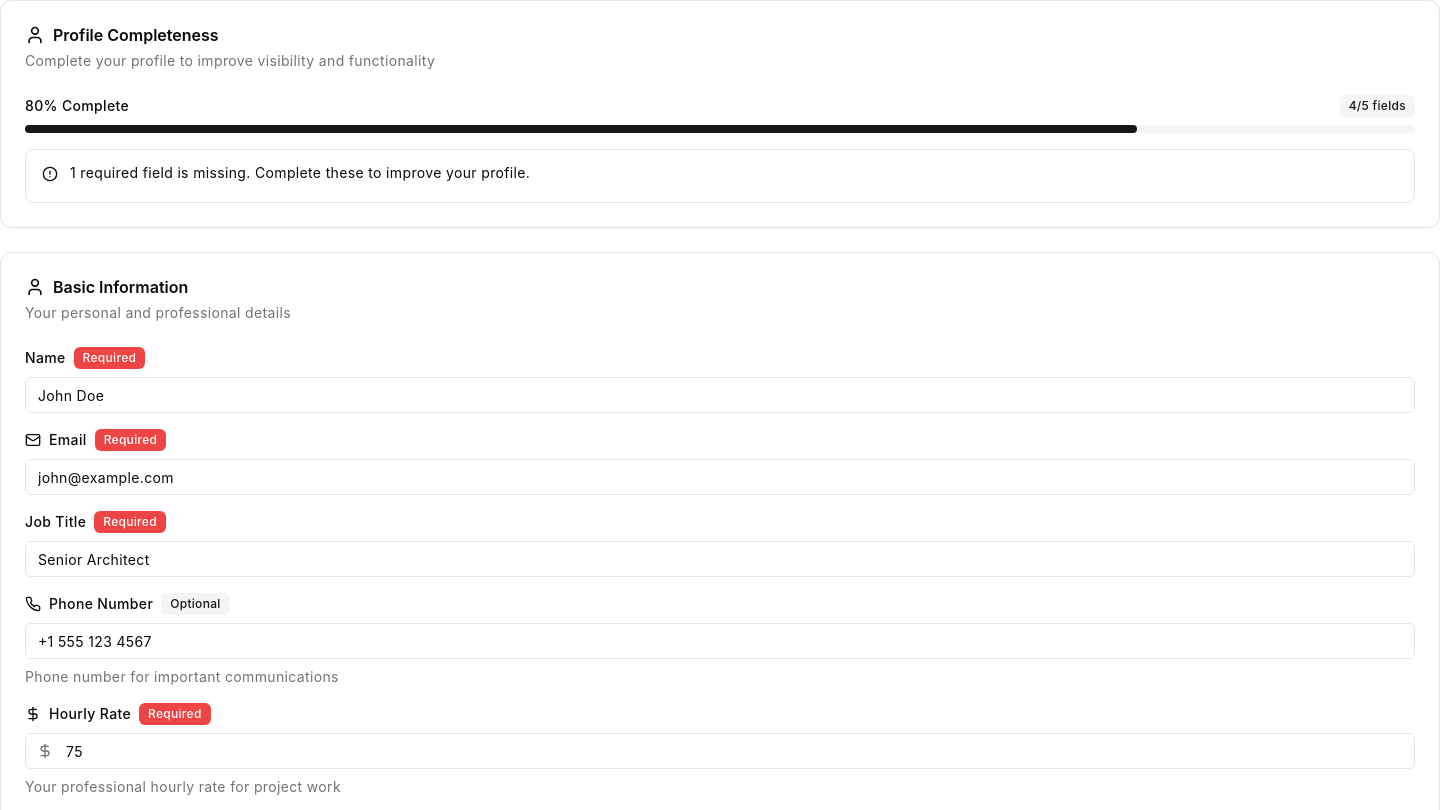
Test: ProfileEditor › shows unsaved changes warning
The image size is (1440, 810).
Step 1. Replace the text in the field labelled "Name Required" with "Changed Name" → {"x": 720, "y": 395}, box 25,377 -> 1415,413
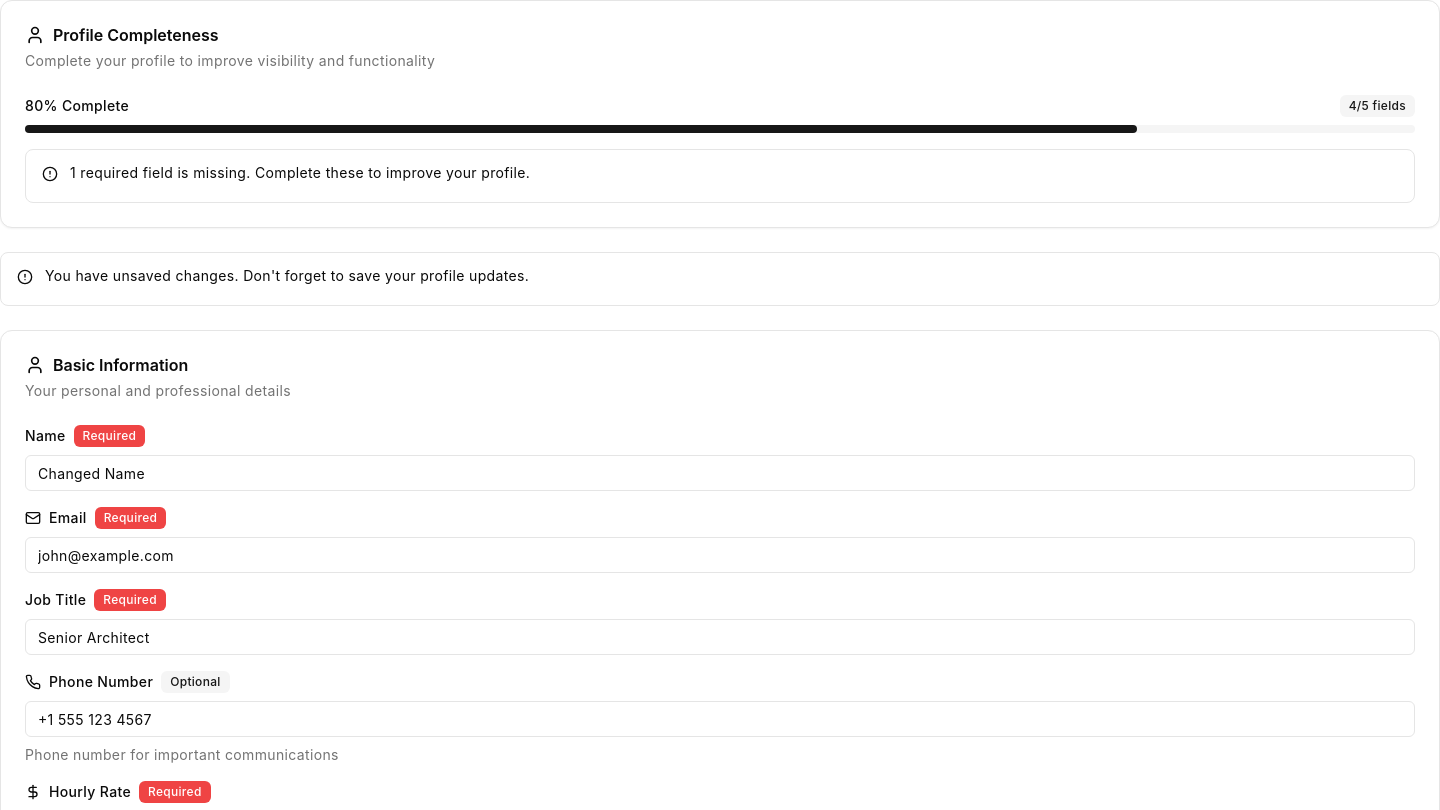
expect the text "You have unsaved changes" is shown: met, box 45,267 -> 529,284
